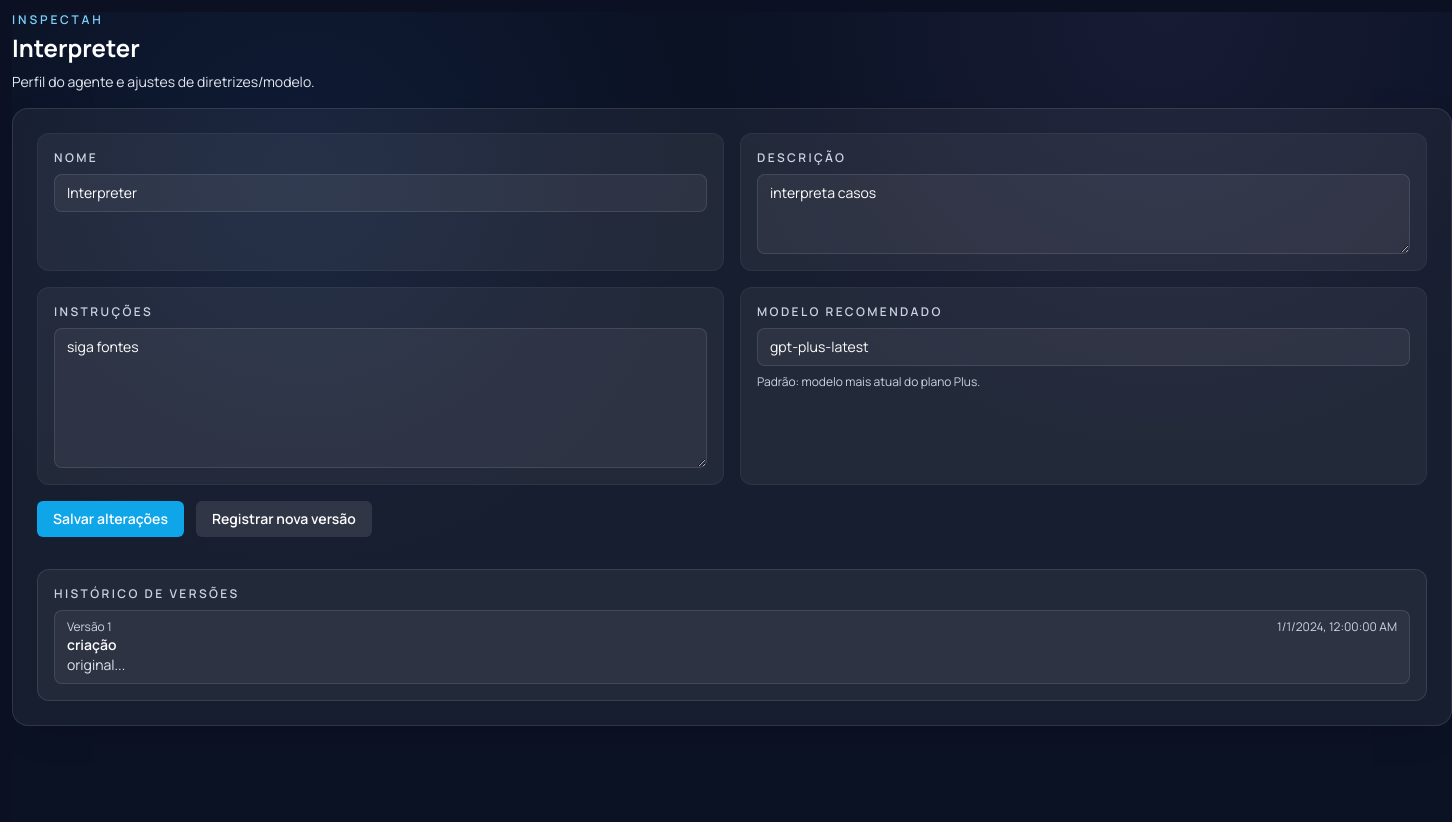
Admin Agents Console › renderiza detalhe e salva
expect the heading "Interpreter" is shown: met, box 12,31 -> 140,64
Type " atualizado" into the text box showing "interpreta casos" at (1084, 214), box 757,174 -> 1410,254
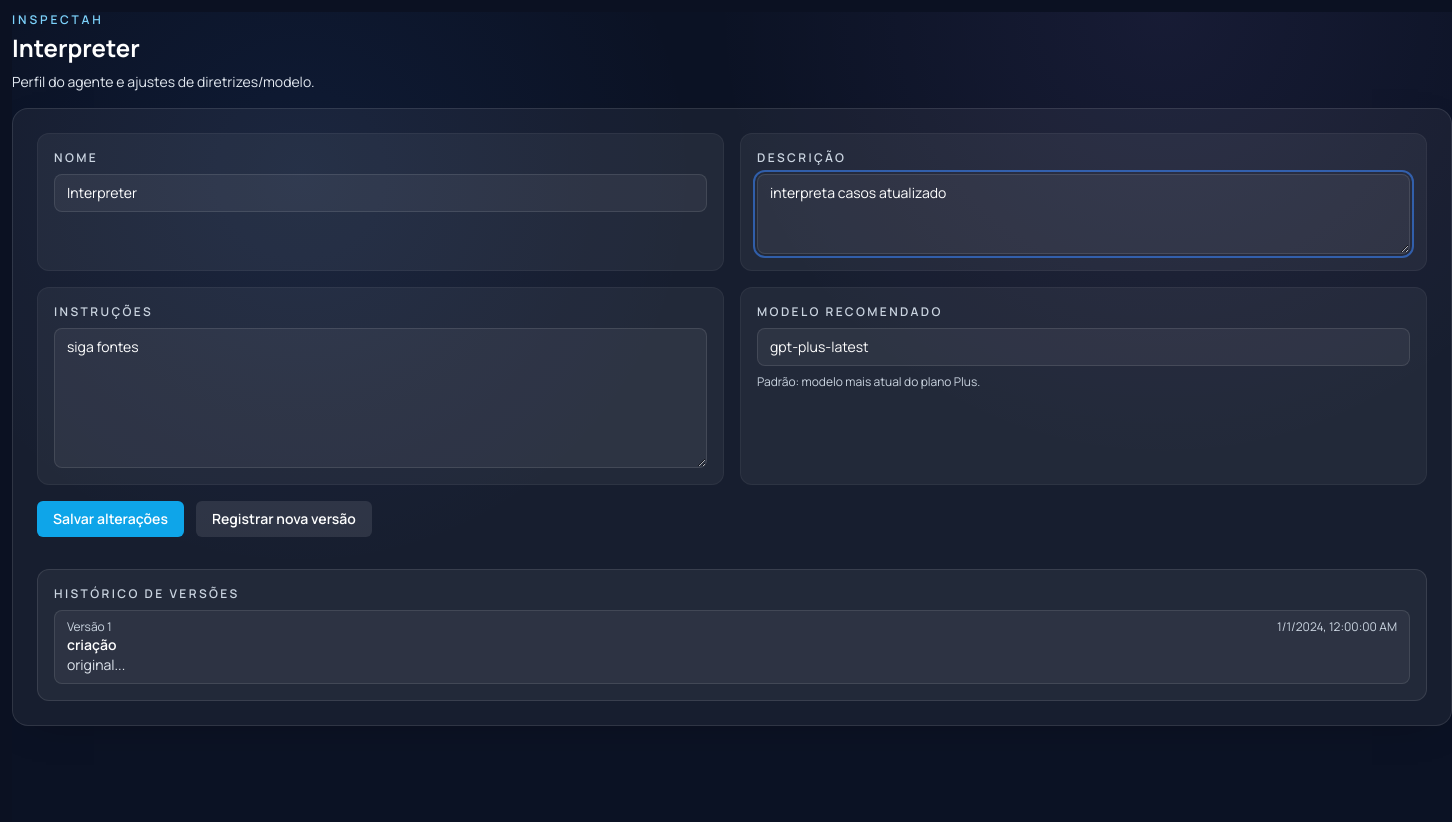
Click the button "Salvar alterações" at (110, 519), box 37,501 -> 184,537
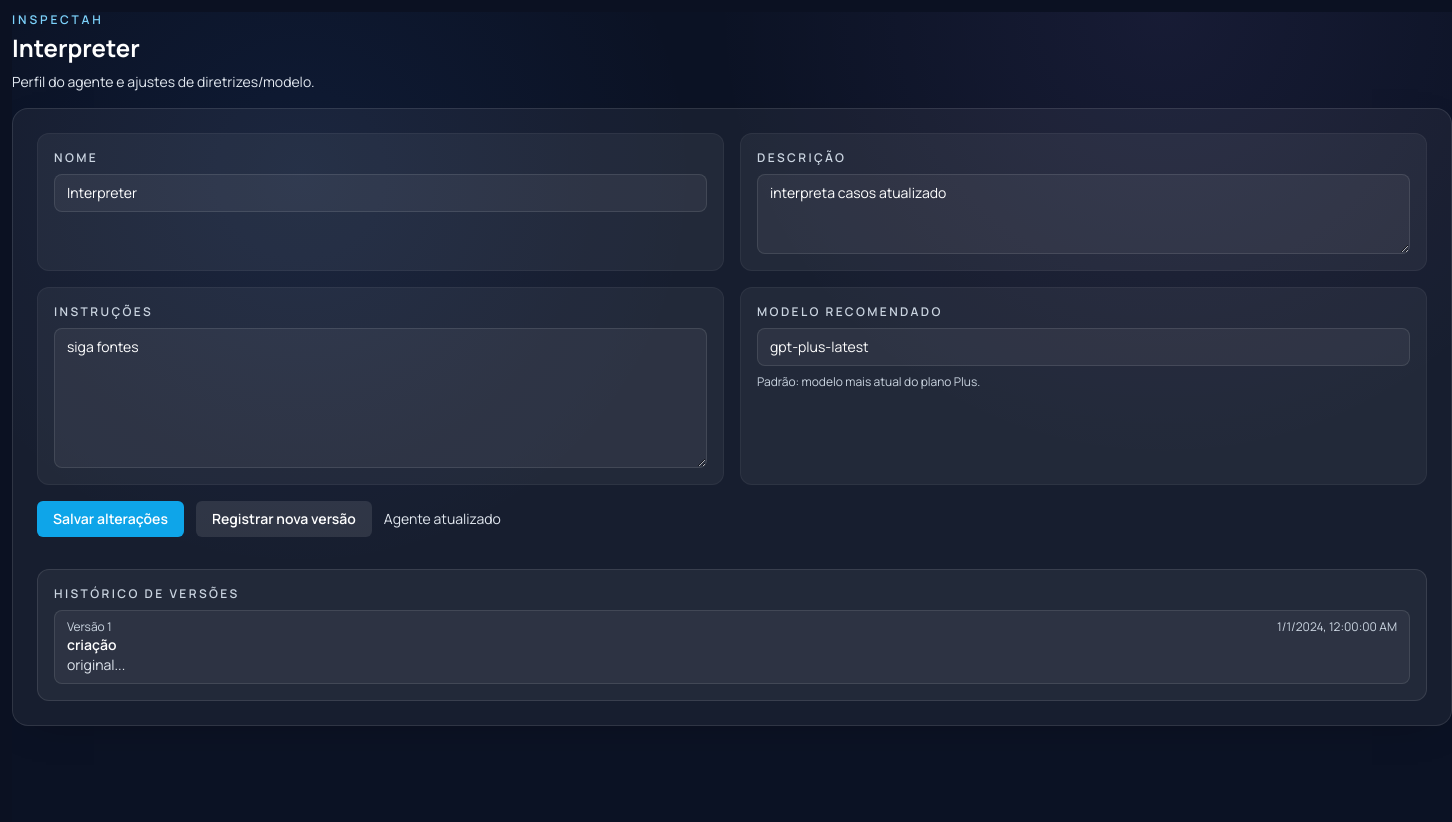
expect the text "Agente atualizado" is shown: met, box 384,509 -> 501,529
Click the button "Registrar nova versão" at (284, 519), box 196,501 -> 372,537
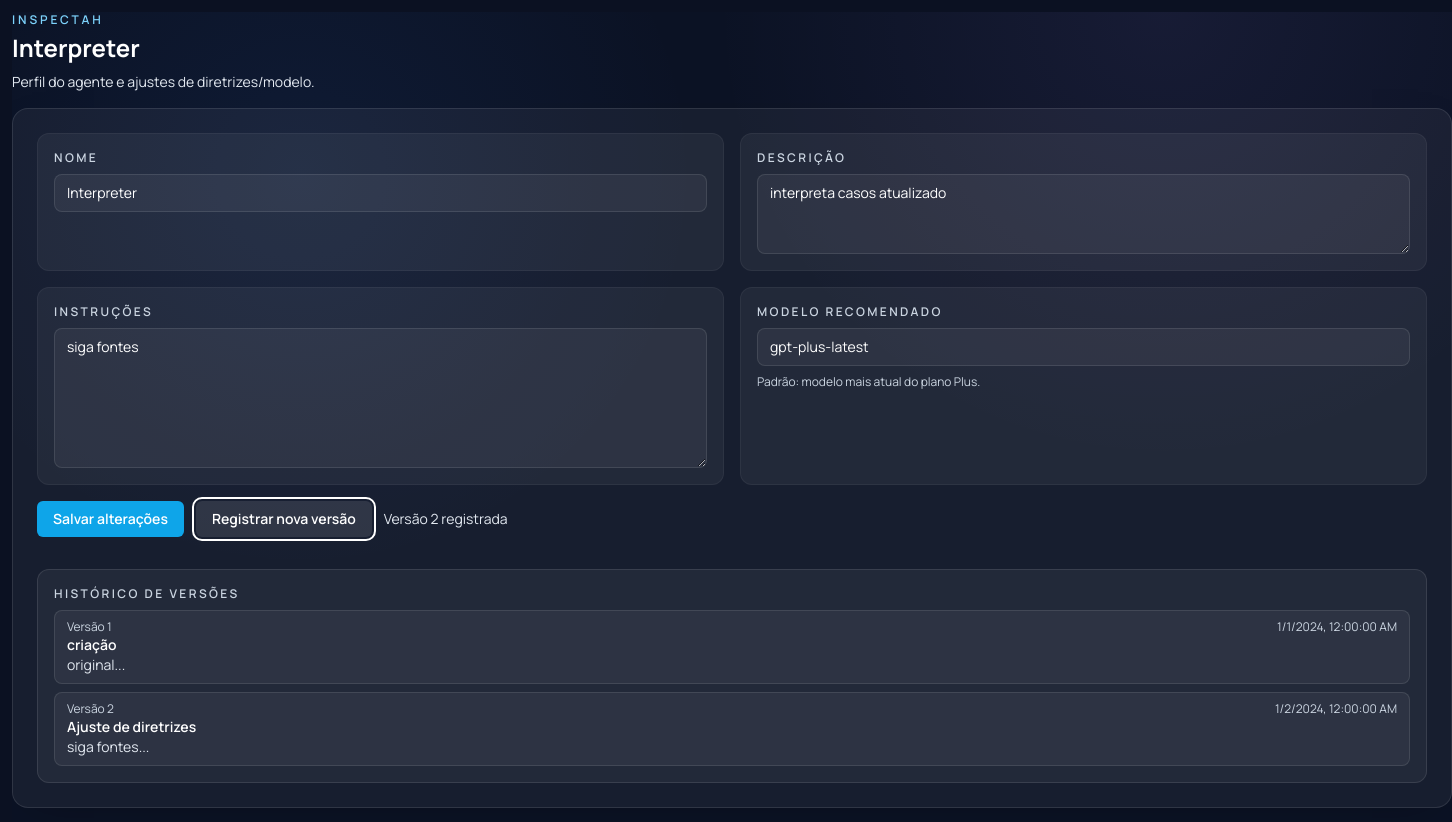
expect the text "Versão 2 registrada" is shown: met, box 384,509 -> 508,529
